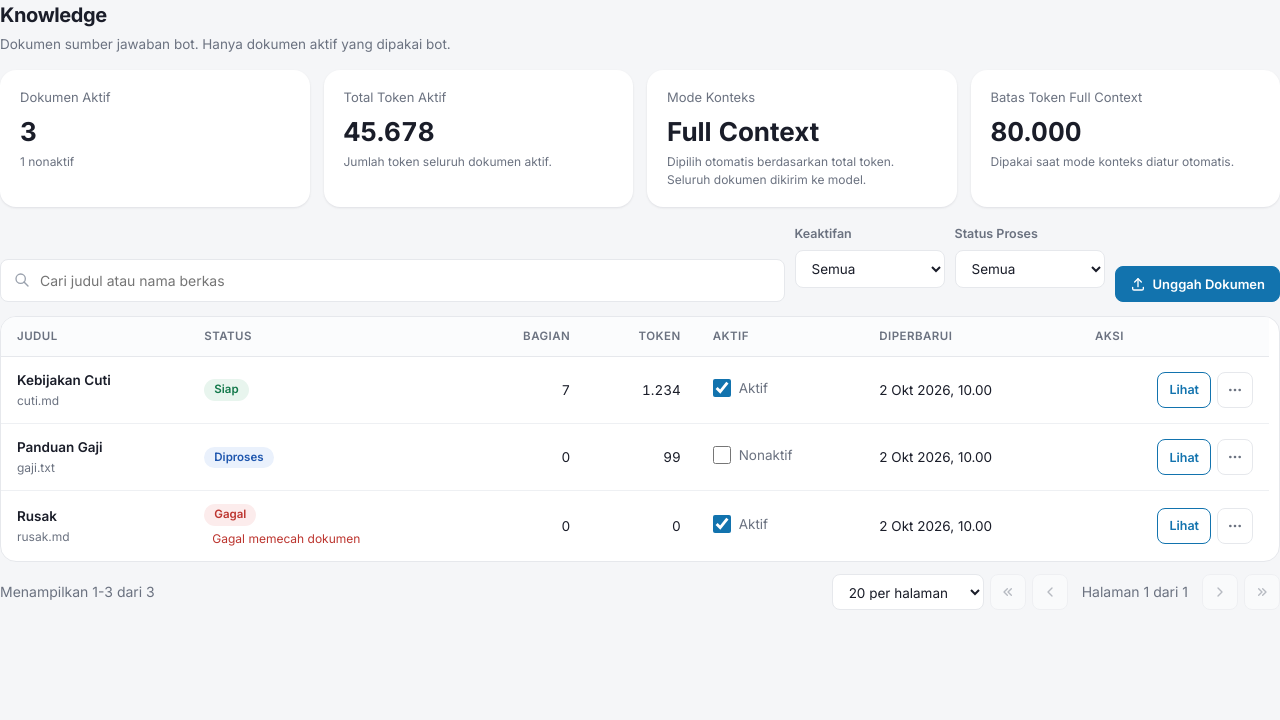
Test case: Knowledge: aksi baris › hapus meminta konfirmasi yang menyebut nama berkas dan baru memanggil DELETE setelah dikonfirmasi
The width and height of the screenshot is (1280, 720).
Expected: the text "Kebijakan Cuti" is shown, x1=17 y1=372 x2=111 y2=388
Click the button named "Aksi lainnya untuk cuti.md".
click(1235, 390)  # box x1=1217 y1=372 x2=1253 y2=408
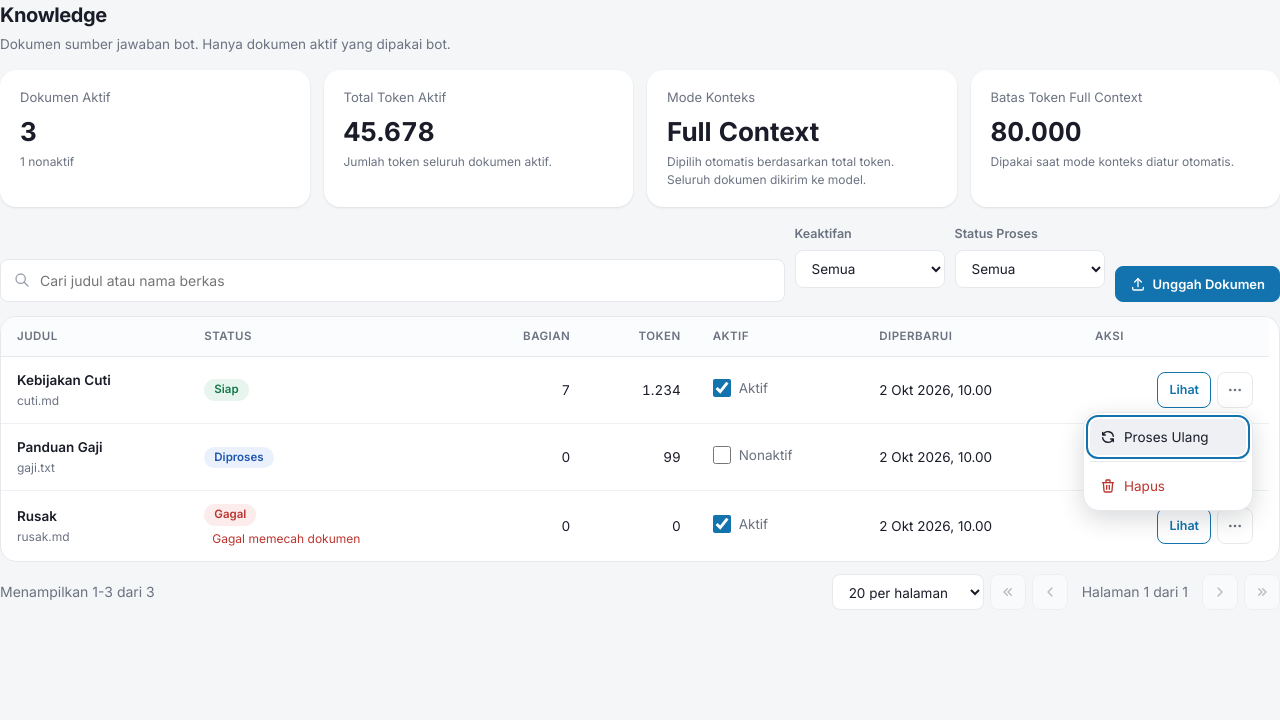
Click the menu item "Hapus".
click(1168, 486)  # box x1=1090 y1=468 x2=1246 y2=504
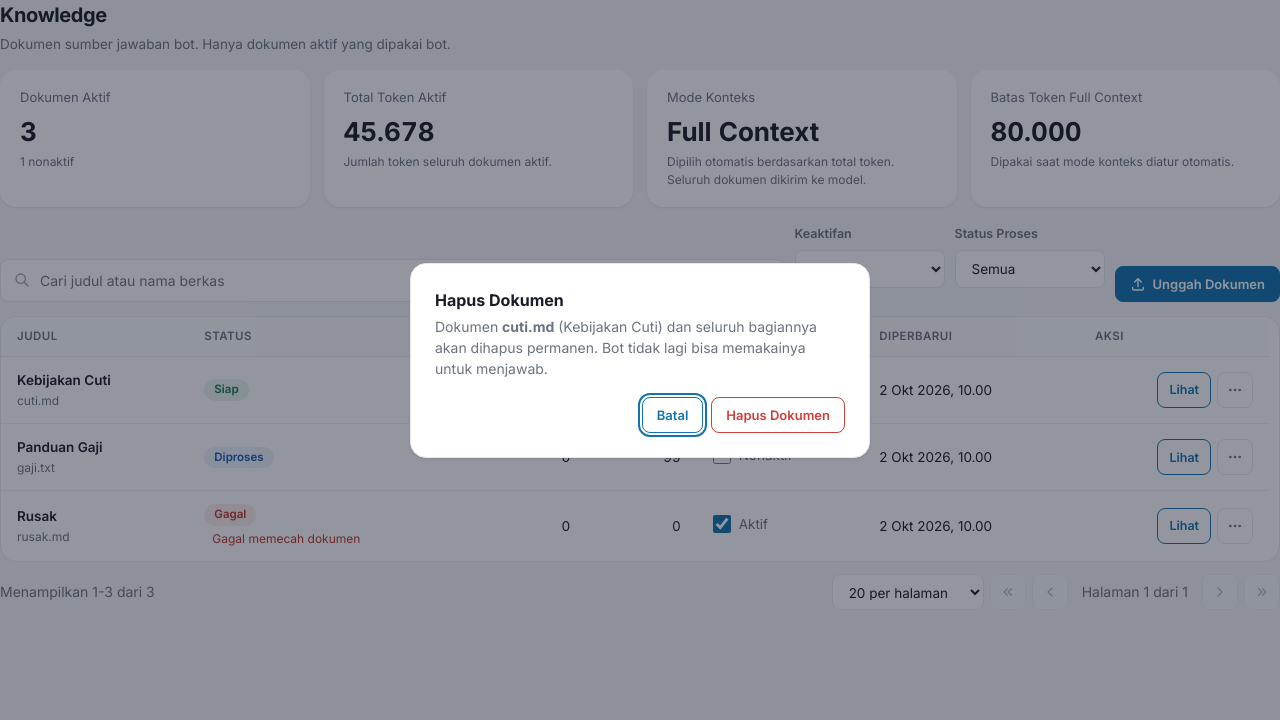
Now the dialog shows "cuti.md", box x1=502 y1=318 x2=554 y2=334
Click the button "Hapus Dokumen".
click(778, 414)  # box x1=711 y1=396 x2=845 y2=432
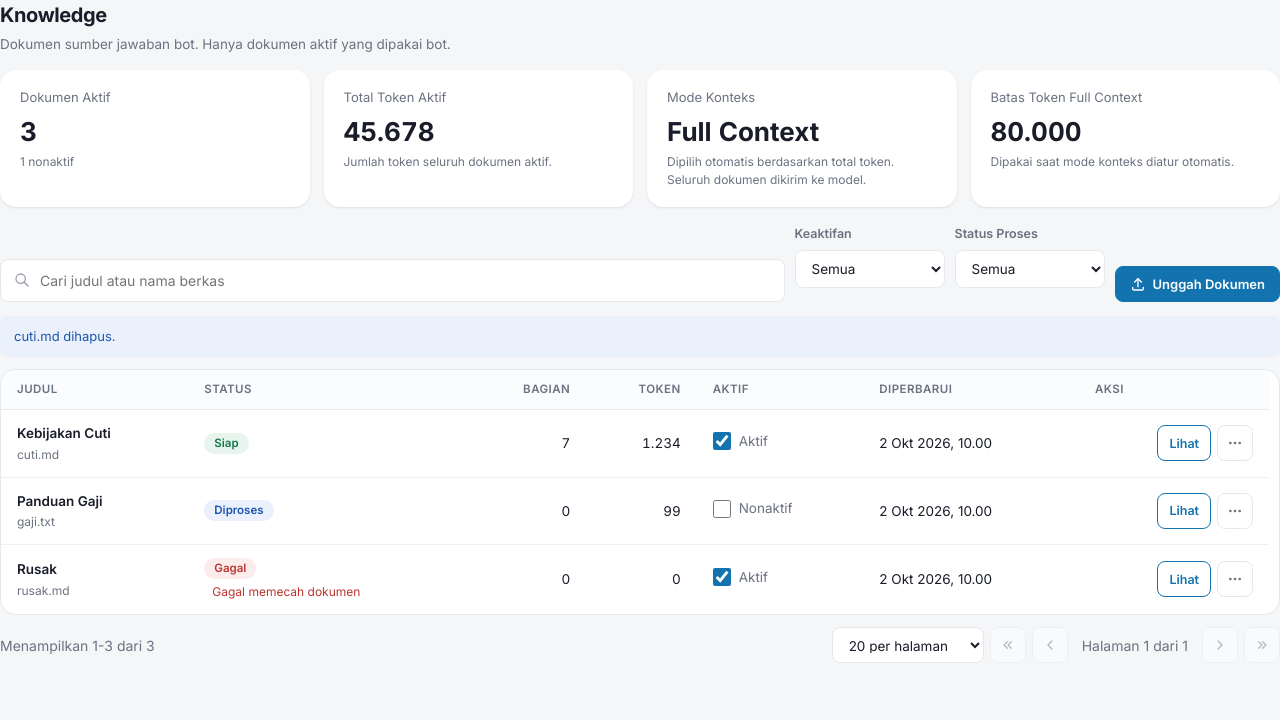
Now the dialog is gone
